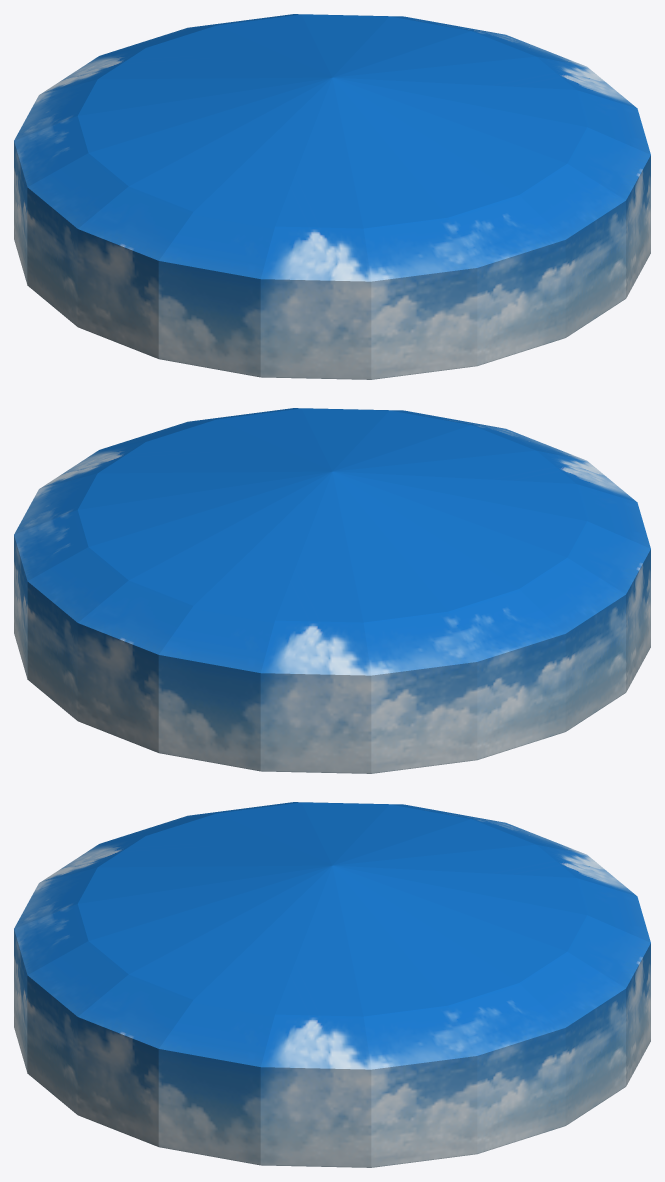
3 renders of one model, top to bottom at view 1: azimuth 30°, elevation 25°; view 2: azimuth 150°, elevation 25°; view 3: azimuth 270°, elevation 25°, orthographic.
Visible parts, largest first — view 1: mesh00; view 2: mesh00; view 3: mesh00.
Boxes of the visible parts, bbox=[...] form: mesh00: bbox=[14, 14, 650, 379]; mesh00: bbox=[14, 408, 650, 773]; mesh00: bbox=[14, 802, 650, 1167].
Bounding box in the file's own units: 105210 × 31805 × 105855.
1 material, 1 textured.
